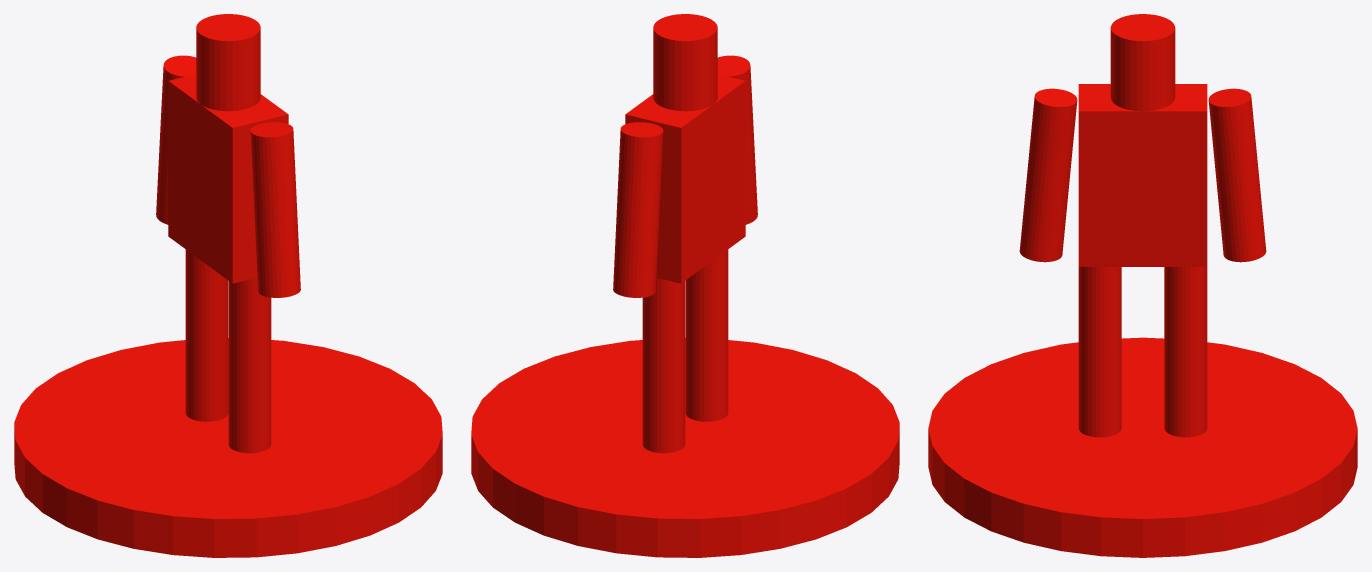
The model's file is human.dae.
3 renders of one model, left to right at view 1: azimuth 30°, elevation 25°; view 2: azimuth 150°, elevation 25°; view 3: azimuth 270°, elevation 25°, orthographic.
Parts seen in each view (by area): view 1: Human; view 2: Human; view 3: Human.
Boxes of the visible parts, x1,y1,x2,y2 form: Human: (14,14,442,557); Human: (471,14,899,557); Human: (928,14,1357,557).
Bounding box in the file's own units: 1000 × 1000 × 1130.
